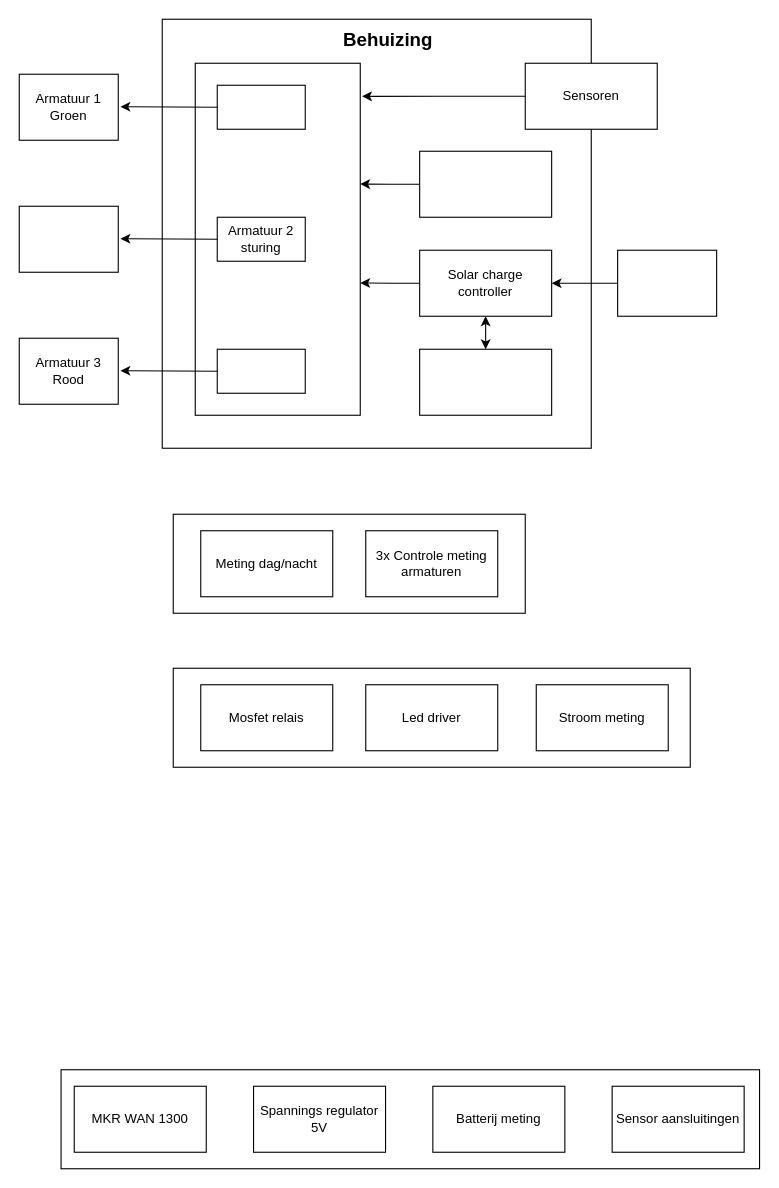
Some shapes in this 779 by 1188 pixel diagram are drawn without their labels. The shapes that lost their labels are listed below. From the top down, each one's box as (x1, y1, x2, y2) in pixels, then its label:
(216, 84, 305, 129): Armatuur 1 sturing
(419, 150, 552, 217): GPS
(18, 205, 118, 272): Armatuur 2 Rood
(194, 62, 360, 415): PCB
(617, 249, 717, 316): Zonnepaneel
(216, 348, 305, 393): Armatuur 3 sturing
(419, 348, 552, 415): 12V batterij
